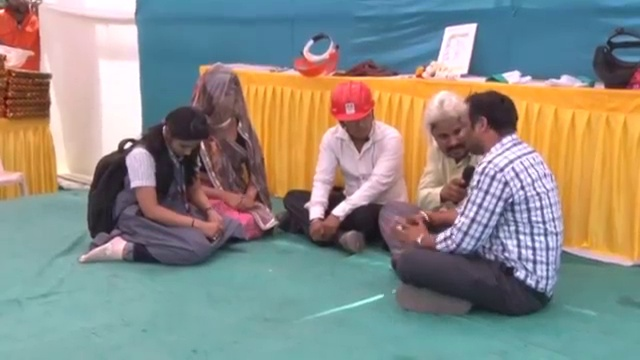helmet: (325, 85, 374, 128), (0, 43, 34, 71)
helmet_off: (462, 87, 519, 161), (194, 67, 246, 138), (419, 94, 474, 158), (153, 109, 209, 164), (1, 0, 35, 23)
helmet_on: (327, 88, 382, 146)
person: (396, 80, 561, 315), (80, 103, 234, 269), (279, 75, 411, 253), (182, 56, 276, 250), (377, 87, 478, 253), (0, 0, 40, 74)
